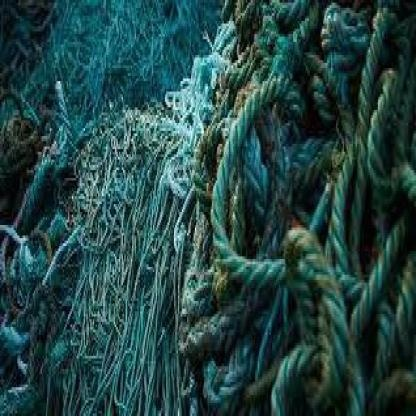net: (31, 10, 416, 416)
